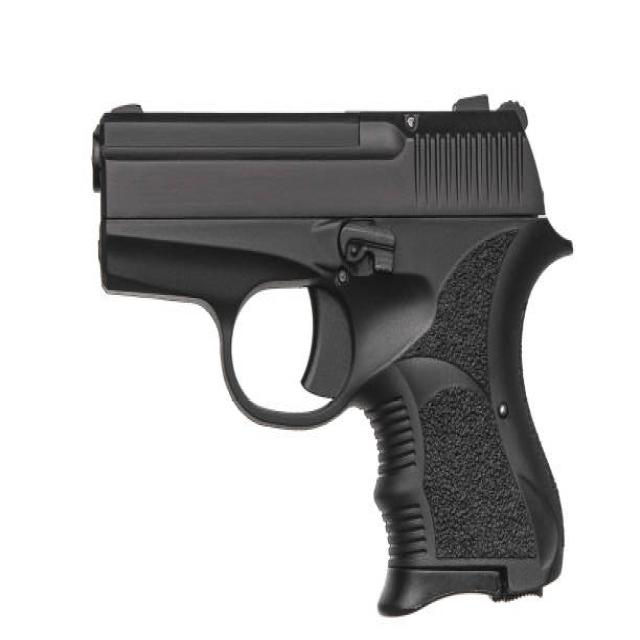pistol: (86, 87, 581, 624)
